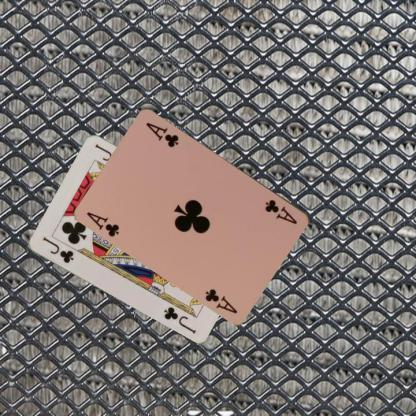Ac: (262, 196, 300, 226), (84, 209, 121, 238)
Jc: (39, 235, 75, 264)
